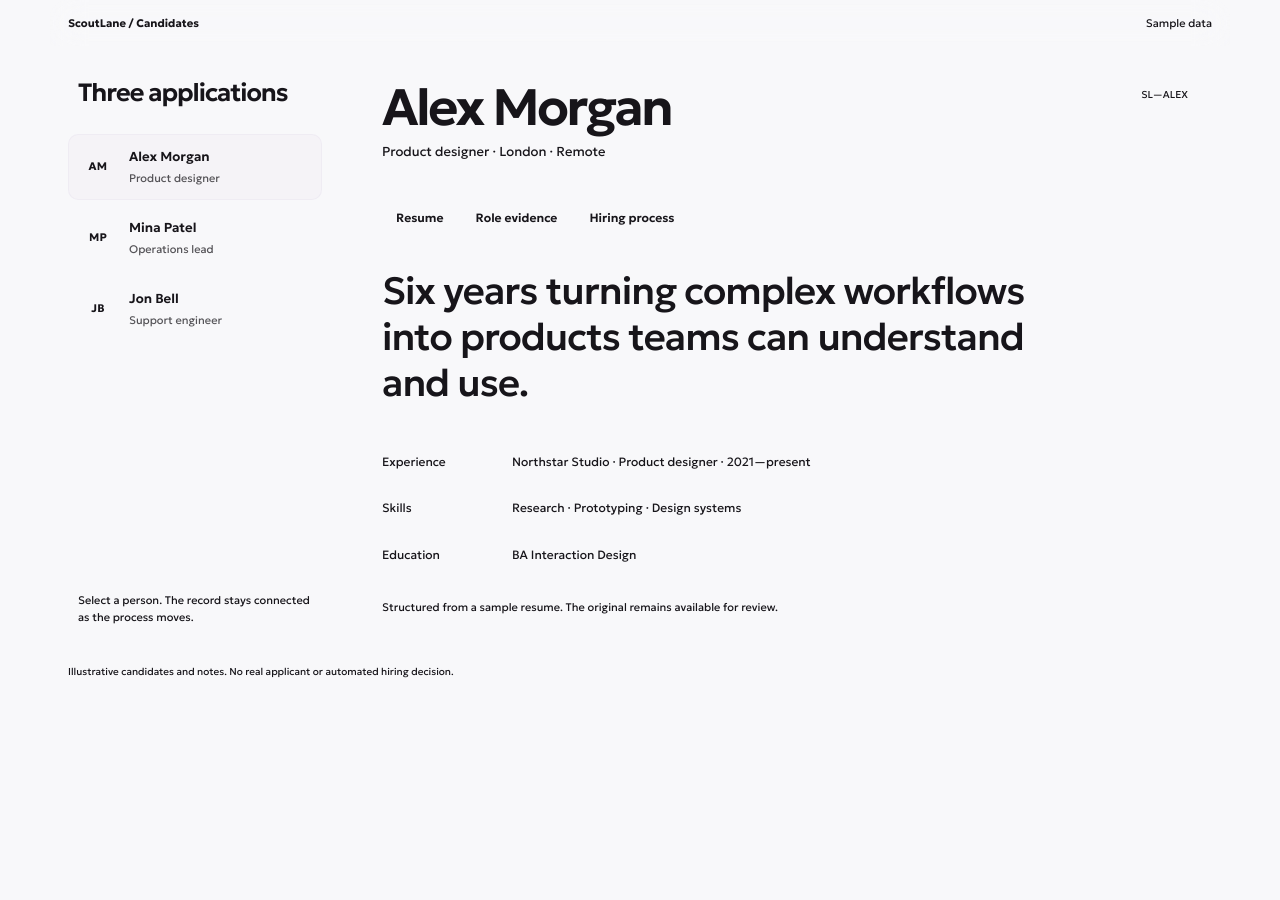
it: LandingCandidateDemo › switches the product evidence without changing automatically
Click the tab "Hiring process": (632, 218) [575, 196, 688, 240]
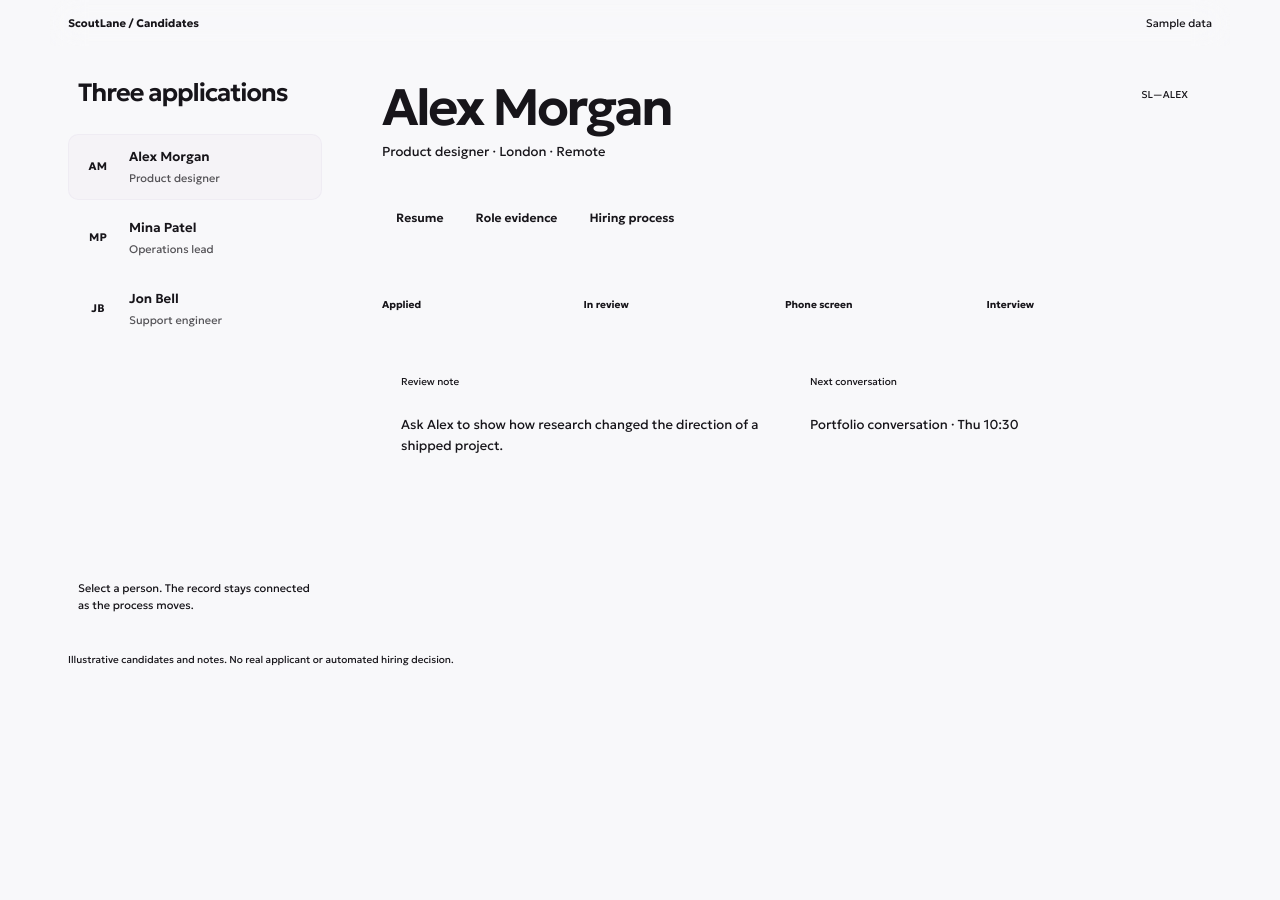
Expected: the panel shows "Phone screen", [785, 298, 852, 311]
Expected: the panel shows "Next conversation", [810, 375, 897, 388]
